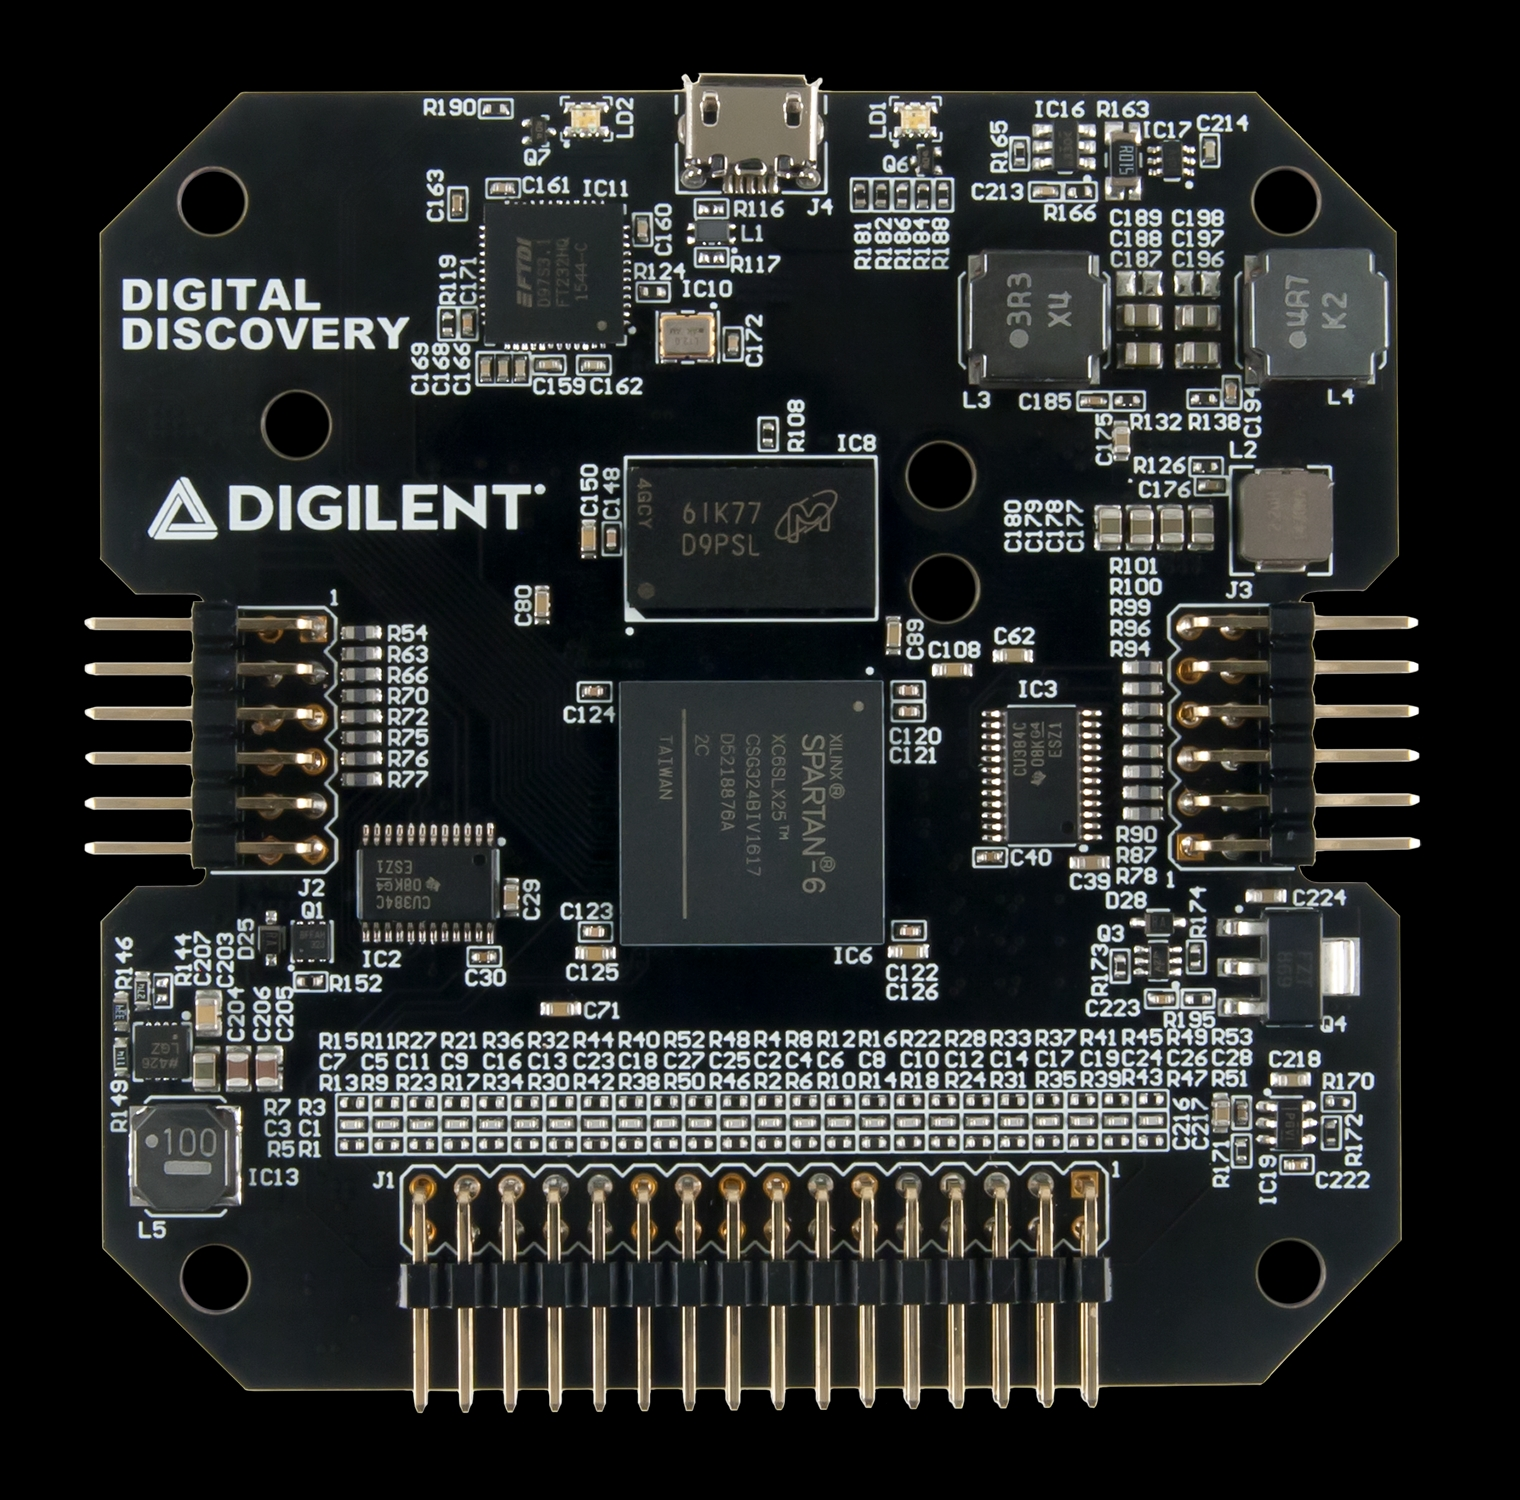capacitor C1: (369, 1114, 405, 1135)
capacitor C10: (893, 1113, 927, 1132)
capacitor C108: (932, 663, 974, 676)
capacitor C11: (475, 1114, 509, 1133)
capacitor C12: (927, 1113, 961, 1132)
capacitor C120: (893, 681, 924, 701)
capacitor C121: (893, 702, 925, 721)
capacitor C122: (893, 920, 925, 940)
capacitor C123: (578, 922, 612, 940)
capacitor C124: (578, 683, 611, 703)
capacitor C125: (574, 946, 615, 960)
capacitor C126: (887, 944, 930, 957)
capacitor C13: (579, 1114, 614, 1133)
capacitor C14: (961, 1113, 995, 1132)
capacitor C148: (601, 523, 621, 556)
capacitor C150: (581, 519, 595, 558)
capacitor C159: (531, 356, 566, 375)
capacitor C16: (544, 1114, 579, 1133)
capacitor C160: (634, 213, 651, 245)
capacitor C161: (487, 180, 519, 196)
capacitor C162: (577, 356, 610, 375)
capacitor C163: (450, 187, 467, 218)
capacitor C166: (512, 353, 530, 385)
capacitor C168: (496, 352, 512, 386)
capacitor C169: (478, 353, 494, 385)
capacitor C17: (995, 1113, 1031, 1130)
capacitor C171: (461, 309, 476, 341)
capacitor C172: (724, 330, 741, 360)
capacitor C175: (1114, 420, 1129, 462)
capacitor C176: (1195, 477, 1229, 495)
capacitor C177: (1188, 504, 1215, 551)
capacitor C178: (1155, 504, 1184, 551)
capacitor C179: (1126, 505, 1153, 549)
capacitor C18: (648, 1113, 684, 1133)
capacitor C180: (1094, 505, 1122, 551)
capacitor C185: (1078, 391, 1111, 409)
capacitor C187: (1116, 342, 1164, 368)
capacitor C188: (1116, 304, 1162, 331)
capacitor C19: (1031, 1111, 1066, 1130)
capacitor C194: (1223, 375, 1241, 409)
capacitor C196: (1175, 341, 1221, 370)
capacitor C197: (1174, 305, 1221, 331)
capacitor C2: (752, 1113, 788, 1133)
capacitor C203: (196, 990, 222, 1036)
capacitor C204: (192, 1048, 218, 1092)
capacitor C205: (255, 1047, 281, 1091)
capacitor C206: (227, 1045, 249, 1091)
capacitor C213: (1028, 183, 1063, 201)
capacitor C214: (1201, 135, 1219, 166)
capacitor C216: (1212, 1093, 1230, 1132)
capacitor C217: (1233, 1096, 1250, 1129)
capacitor C218: (1270, 1073, 1311, 1087)
capacitor C222: (1281, 1157, 1313, 1173)
capacitor C223: (1145, 990, 1178, 1010)
capacitor C224: (1245, 887, 1288, 902)
capacitor C23: (614, 1113, 649, 1133)
capacitor C24: (1066, 1111, 1100, 1130)
capacitor C25: (719, 1113, 752, 1133)
capacitor C26: (1100, 1111, 1136, 1130)
capacitor C27: (684, 1113, 718, 1133)
capacitor C28: (1134, 1113, 1168, 1130)
capacitor C29: (504, 879, 519, 915)
capacitor C3: (336, 1115, 369, 1135)
capacitor C30: (468, 946, 501, 967)
capacitor C39: (1070, 856, 1109, 870)
capacitor C4: (788, 1113, 822, 1133)
capacitor C40: (974, 848, 1006, 867)
capacitor C5: (439, 1115, 474, 1133)
capacitor C6: (822, 1113, 857, 1132)
capacitor C62: (991, 648, 1033, 662)
capacitor C7: (405, 1114, 439, 1135)
capacitor C71: (540, 1001, 581, 1016)
capacitor C8: (857, 1113, 893, 1132)
capacitor C80: (534, 585, 551, 626)
capacitor C89: (887, 617, 899, 654)
capacitor C9: (509, 1114, 544, 1135)
connector J1: (400, 1163, 1109, 1409)
connector J2: (87, 602, 336, 872)
connector J3: (1168, 604, 1420, 870)
connector J4: (676, 76, 824, 192)
diode D25 RA: (257, 911, 286, 966)
diode D28 RA: (1130, 909, 1186, 935)
ic IC10: (658, 313, 719, 363)
ic IC11 "FTDI 09753.1 FT232HQ 1544-C: (478, 201, 632, 352)
ic IC13 "426 LGZ: (135, 1023, 192, 1080)
ic IC16: (1034, 120, 1096, 173)
ic IC17: (1147, 140, 1195, 179)
ic IC19 PGV: (1255, 1098, 1317, 1151)
ic IC2 "CU384C 08KG4 3SZ1: (357, 824, 498, 944)
ic IC3 "CU384C 08KG4 ESZ1: (982, 705, 1101, 845)
ic IC6 "XILINX SPARTAN-6 XC6SLX25 CSG3248IV1617 D5218876A 2C TAIWAN: (621, 681, 884, 944)
ic IC8 "4GCY 61K77 D9PSL: (626, 456, 877, 621)
inductor J3 "2.2uH: (1232, 466, 1335, 574)
inductor L1: (693, 221, 730, 245)
inductor L3 "3R3 X4: (958, 250, 1109, 387)
inductor L4 "4R7 K2: (1236, 249, 1388, 386)
inductor L5 100: (129, 1098, 242, 1216)
led LD1: (893, 98, 941, 140)
led LD2: (562, 96, 611, 139)
pads C189: (1116, 271, 1162, 297)
pads C198: (1173, 271, 1221, 295)
pads C207: (152, 974, 172, 1008)
pads R116: (693, 199, 729, 218)
pads R117: (695, 249, 728, 266)
resistor R1: (371, 1135, 405, 1155)
resistor R10: (822, 1133, 857, 1152)
resistor R100: (1123, 681, 1162, 695)
resistor R101: (1123, 659, 1162, 674)
resistor R108: (759, 418, 779, 451)
resistor R11: (439, 1093, 474, 1113)
resistor R119: (439, 306, 459, 341)
resistor R12: (822, 1092, 857, 1111)
resistor R124: (637, 283, 670, 301)
resistor R126: (1189, 457, 1223, 477)
resistor R13: (405, 1135, 441, 1155)
resistor R132: (1111, 391, 1145, 411)
resistor R138: (1188, 390, 1222, 408)
resistor R14: (857, 1132, 893, 1152)
resistor R144 274: (135, 974, 150, 1010)
resistor R146 339: (113, 992, 129, 1030)
resistor R149 114: (114, 1038, 128, 1076)
resistor R15: (405, 1093, 439, 1113)
resistor R152: (294, 973, 330, 990)
resistor R16: (857, 1091, 893, 1111)
resistor R163 R015: (1105, 121, 1141, 201)
resistor R165: (1011, 137, 1028, 170)
resistor R166: (1063, 181, 1098, 202)
resistor R17: (509, 1135, 544, 1154)
resistor R170: (1321, 1092, 1354, 1111)
resistor R171: (1233, 1135, 1251, 1168)
resistor R172: (1322, 1117, 1341, 1148)
resistor R173: (1111, 951, 1129, 984)
resistor R174: (1186, 941, 1206, 973)
resistor R18: (893, 1133, 927, 1152)
resistor R181: (851, 179, 872, 212)
resistor R182: (872, 179, 891, 212)
resistor R184: (913, 179, 934, 212)
resistor R186: (891, 179, 913, 212)
resistor R188: (934, 179, 953, 212)
resistor R190: (478, 98, 514, 120)
resistor R195: (1182, 989, 1215, 1008)
resistor R2: (752, 1135, 787, 1152)
resistor R21: (509, 1093, 544, 1113)
resistor R22: (893, 1091, 927, 1111)
resistor R23: (475, 1135, 509, 1155)
resistor R24: (927, 1133, 961, 1152)
resistor R27: (475, 1093, 509, 1113)
resistor R28: (927, 1091, 961, 1111)
resistor R3: (371, 1093, 405, 1113)
resistor R30: (579, 1135, 614, 1154)
resistor R31: (961, 1132, 995, 1152)
resistor R32: (579, 1092, 614, 1113)
resistor R33: (963, 1091, 995, 1111)
resistor R34: (545, 1135, 579, 1154)
resistor R35: (995, 1130, 1031, 1152)
resistor R36: (545, 1093, 579, 1113)
resistor R37: (995, 1091, 1031, 1111)
resistor R38: (648, 1133, 684, 1152)
resistor R39: (1031, 1132, 1066, 1152)
resistor R4: (752, 1092, 788, 1113)
resistor R40: (648, 1093, 682, 1113)
resistor R41: (1031, 1091, 1066, 1110)
resistor R42: (614, 1135, 648, 1154)
resistor R43: (1066, 1130, 1100, 1151)
resistor R44: (614, 1092, 649, 1113)
resistor R45: (1066, 1091, 1100, 1110)
resistor R46: (718, 1135, 752, 1152)
resistor R47: (1100, 1132, 1136, 1152)
resistor R48: (718, 1092, 752, 1111)
resistor R49: (1100, 1091, 1134, 1110)
resistor R5: (336, 1136, 371, 1155)
resistor R50: (684, 1133, 718, 1152)
resistor R51: (1136, 1130, 1168, 1151)
resistor R52: (682, 1093, 718, 1113)
resistor R53: (1134, 1091, 1168, 1110)
resistor R54: (341, 625, 380, 640)
resistor R6: (787, 1133, 822, 1152)
resistor R63: (341, 647, 382, 659)
resistor R66: (342, 668, 380, 681)
resistor R7: (336, 1095, 371, 1113)
resistor R70: (341, 688, 382, 703)
resistor R72: (342, 710, 382, 724)
resistor R75: (341, 729, 380, 745)
resistor R76: (341, 753, 382, 766)
resistor R77: (342, 772, 380, 786)
resistor R78: (1122, 806, 1163, 820)
resistor R8: (788, 1092, 822, 1111)
resistor R87: (1122, 784, 1163, 799)
resistor R9: (439, 1135, 475, 1154)
resistor R90: (1123, 765, 1162, 777)
resistor R94: (1122, 745, 1163, 758)
resistor R96: (1122, 724, 1163, 738)
resistor R99: (1122, 702, 1163, 716)
text "DIGITAL DISCOVERY: (118, 273, 409, 357)
text 1: (327, 585, 341, 609), (1164, 870, 1175, 891)
text C1: (297, 1118, 323, 1139)
text C10: (899, 1049, 941, 1070)
text C108: (925, 637, 983, 659)
text C11: (395, 1052, 433, 1073)
text C12: (943, 1049, 984, 1070)
text C120: (887, 724, 945, 746)
text C121: (887, 747, 938, 766)
text C122: (884, 962, 941, 982)
text C123: (557, 900, 617, 920)
text C124: (562, 705, 617, 727)
text C125: (563, 962, 622, 982)
text C126: (884, 982, 941, 1003)
text C13: (526, 1052, 568, 1071)
text C14: (989, 1048, 1028, 1069)
text C148: (600, 464, 623, 522)
text C150: (577, 462, 601, 519)
text C159: (533, 375, 588, 398)
text C16: (481, 1051, 525, 1071)
text C160: (652, 201, 676, 258)
text C161: (520, 174, 570, 195)
text C162: (589, 375, 644, 398)
text C163: (419, 165, 445, 225)
text C166: (450, 341, 472, 397)
text C168: (430, 341, 450, 398)
text C169: (408, 341, 430, 400)
text C17: (1033, 1049, 1075, 1070)
text C171: (459, 255, 478, 305)
text C172: (744, 312, 763, 370)
text C175: (1093, 411, 1114, 467)
text C176: (1136, 478, 1192, 500)
text C177: (1066, 496, 1085, 555)
text C178: (1044, 497, 1066, 555)
text C179: (1023, 496, 1044, 556)
text C18: (617, 1051, 659, 1070)
text C180: (1001, 495, 1024, 555)
text C185: (1017, 391, 1072, 413)
text C187: (1107, 249, 1164, 269)
text C188: (1105, 229, 1163, 249)
text C189: (1105, 206, 1164, 228)
text C19: (1081, 1048, 1120, 1069)
text C194: (1243, 387, 1262, 438)
text C196: (1170, 249, 1226, 268)
text C197: (1168, 229, 1223, 249)
text C198: (1168, 207, 1226, 227)
text C2: (752, 1049, 783, 1070)
text C203: (214, 931, 235, 989)
text C204: (225, 986, 246, 1041)
text C205: (273, 985, 297, 1045)
text C206: (250, 985, 273, 1043)
text C207: (192, 929, 213, 988)
text C213: (969, 180, 1024, 205)
text C214: (1196, 113, 1248, 133)
text C216: (1170, 1093, 1190, 1152)
text C217: (1190, 1093, 1211, 1152)
text C218: (1267, 1048, 1324, 1071)
text C222: (1315, 1169, 1372, 1191)
text C223: (1083, 999, 1141, 1022)
text C224: (1291, 887, 1348, 909)
text C23: (570, 1049, 615, 1071)
text C24: (1120, 1048, 1164, 1067)
text C25: (709, 1051, 752, 1071)
text C26: (1164, 1049, 1210, 1067)
text C27: (662, 1049, 704, 1070)
text C28: (1211, 1048, 1254, 1069)
text C29: (520, 876, 542, 923)
text C3: (261, 1118, 292, 1137)
text C30: (463, 967, 509, 988)
text C39: (1070, 871, 1111, 891)
text C4: (784, 1049, 814, 1069)
text C40: (1009, 848, 1055, 867)
text C5: (358, 1054, 389, 1071)
text C6: (816, 1049, 846, 1071)
text C62: (991, 626, 1037, 646)
text C7: (317, 1051, 347, 1071)
text C71: (582, 1000, 621, 1021)
text C8: (857, 1049, 887, 1069)
text C80: (511, 581, 536, 628)
text C89: (903, 615, 925, 662)
text C9: (438, 1051, 470, 1071)
text D25: (236, 918, 255, 962)
text D28: (1103, 889, 1149, 912)
text DIGILENT: (224, 478, 534, 538)
text IC10: (680, 279, 735, 299)
text IC11: (581, 179, 629, 198)
text IC13: (246, 1165, 301, 1188)
text IC16: (1033, 99, 1087, 118)
text IC17: (1142, 120, 1195, 140)
text IC19: (1256, 1152, 1278, 1209)
text IC2: (360, 946, 404, 971)
text IC3: (1016, 677, 1060, 701)
text IC6: (832, 945, 875, 968)
text IC8: (835, 430, 877, 453)
text J1: (369, 1169, 395, 1194)
text J2: (297, 876, 325, 900)
text J3: (1225, 580, 1256, 602)
text J4: (806, 196, 835, 218)
text L1: (737, 223, 766, 245)
text L2: (1228, 440, 1259, 460)
text L3: (958, 390, 993, 409)
text L4: (1324, 387, 1357, 409)
text L5: (135, 1218, 168, 1240)
text LD1: (868, 100, 888, 141)
text LD2: (614, 93, 636, 141)
text Q1: (298, 900, 325, 920)
text Q3: (1094, 920, 1125, 944)
text Q4: (1320, 1012, 1348, 1038)
text Q6: (882, 154, 910, 174)
text Q7: (523, 147, 551, 168)
text R1: (297, 1139, 323, 1159)
text R100: (1105, 576, 1164, 598)
text R101: (1105, 555, 1159, 576)
text R108: (784, 396, 809, 455)
text R11: (360, 1030, 395, 1052)
text R116: (732, 198, 785, 218)
text R117: (730, 253, 783, 275)
text R119: (435, 251, 459, 306)
text R12: (816, 1027, 857, 1049)
text R124: (633, 261, 687, 282)
text R126: (1131, 455, 1186, 477)
text R13: (319, 1071, 360, 1092)
text R132: (1129, 412, 1184, 434)
text R138: (1186, 411, 1241, 431)
text R14: (855, 1070, 898, 1091)
text R144: (172, 931, 192, 990)
text R146: (111, 933, 132, 990)
text R149: (108, 1078, 130, 1133)
text R15: (319, 1030, 358, 1052)
text R152: (330, 971, 384, 997)
text R16: (857, 1029, 899, 1049)
text R163: (1094, 98, 1151, 120)
text R165: (987, 118, 1009, 174)
text R166: (1042, 203, 1098, 224)
text R17: (438, 1073, 481, 1091)
text R170: (1321, 1069, 1374, 1093)
text R171: (1210, 1139, 1233, 1192)
text R172: (1344, 1114, 1366, 1170)
text R173: (1087, 941, 1109, 999)
text R174: (1186, 883, 1210, 937)
text R18: (899, 1070, 941, 1089)
text R181: (850, 220, 873, 273)
text R182: (872, 216, 893, 271)
text R184: (912, 217, 931, 271)
text R186: (893, 216, 910, 271)
text R188: (931, 216, 952, 272)
text R190: (422, 96, 476, 120)
text R195: (1162, 1010, 1217, 1029)
text R2: (752, 1069, 783, 1092)
text R21: (438, 1030, 476, 1051)
text R22: (899, 1027, 942, 1048)
text R23: (395, 1073, 437, 1092)
text R24: (942, 1069, 987, 1089)
text R27: (395, 1029, 438, 1051)
text R28: (943, 1027, 989, 1049)
text R3: (297, 1096, 327, 1117)
text R30: (526, 1071, 568, 1091)
text R31: (989, 1069, 1028, 1091)
text R32: (527, 1029, 570, 1051)
text R33: (989, 1027, 1033, 1048)
text R34: (481, 1071, 527, 1091)
text R35: (1033, 1070, 1079, 1089)
text R36: (481, 1030, 526, 1051)
text R37: (1033, 1027, 1078, 1048)
text R38: (618, 1073, 660, 1091)
text R39: (1079, 1070, 1120, 1088)
text R4: (751, 1029, 781, 1049)
text R40: (617, 1030, 660, 1049)
text R41: (1076, 1027, 1116, 1048)
text R42: (571, 1073, 617, 1091)
text R43: (1120, 1069, 1164, 1087)
text R44: (570, 1029, 617, 1051)
text R45: (1118, 1027, 1163, 1048)
text R46: (706, 1070, 752, 1091)
text R47: (1164, 1069, 1208, 1088)
text R48: (704, 1030, 751, 1049)
text R49: (1166, 1027, 1210, 1048)
text R5: (264, 1139, 297, 1159)
text R50: (663, 1071, 707, 1092)
text R51: (1210, 1069, 1248, 1089)
text R52: (662, 1030, 706, 1049)
text R53: (1210, 1027, 1254, 1045)
text R54: (384, 622, 428, 644)
text R6: (784, 1070, 814, 1091)
text R63: (386, 646, 430, 663)
text R66: (386, 665, 430, 685)
text R7: (260, 1096, 292, 1118)
text R70: (384, 685, 433, 707)
text R72: (386, 706, 431, 727)
text R75: (386, 727, 430, 747)
text R76: (387, 749, 431, 768)
text R77: (386, 771, 428, 790)
text R78: (1114, 865, 1160, 887)
text R8: (783, 1027, 816, 1049)
text R87: (1114, 845, 1159, 864)
text R9: (358, 1073, 391, 1091)
text R90: (1114, 824, 1158, 845)
text R94: (1108, 637, 1152, 661)
text R96: (1107, 618, 1153, 637)
text R99: (1105, 598, 1153, 617)
transistor Q1 "FAM 323: (292, 922, 334, 962)
transistor Q3: (1134, 941, 1182, 981)
transistor Q4 "FTZ 869: (1219, 909, 1359, 1027)
transistor Q6: (919, 146, 932, 176)
transistor Q7: (520, 114, 556, 143)
